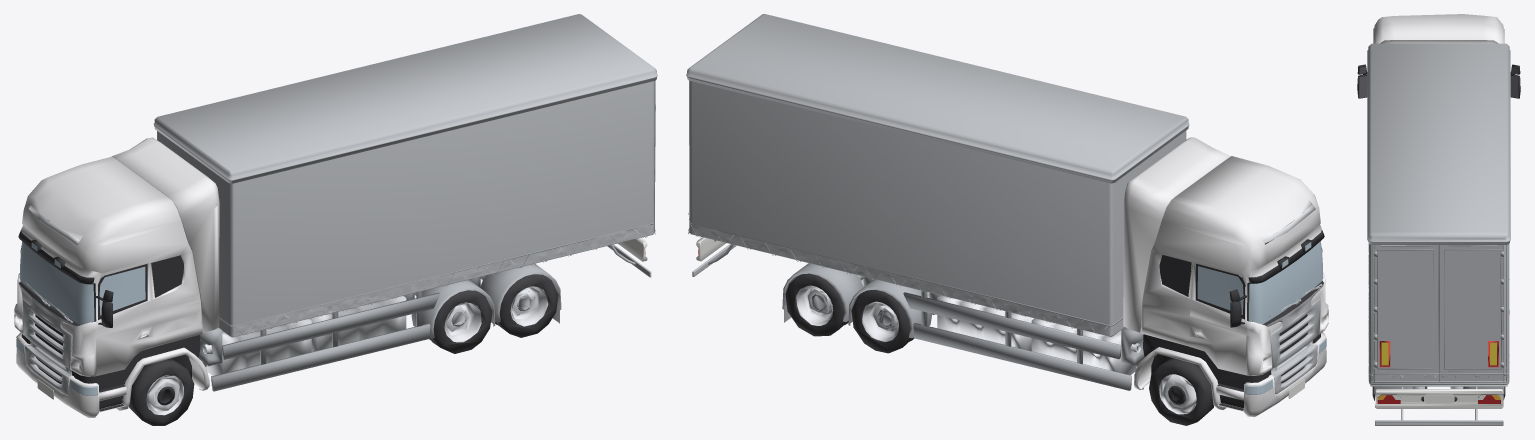
File: archmodels55-17.glb
The picture shows the model from 3 angles, left to right: view 1: azimuth 30°, elevation 25°; view 2: azimuth 150°, elevation 25°; view 3: azimuth 270°, elevation 25°; orthographic projection. The views are drawn at different scales.
Parts seen in each view (by area): view 1: Archmodels55_17_crate, Archmodels55_17_crate_top, Archmodels55_17_carpaint, Archmodels55_17_frame, Archmodels55_17_chrome2, Archmodels55_17_tires, Archmodels55_17_black, Archmodels55_17_glass, Archmodels55_17_crate_bottom, Archmodels55_17_grill; view 2: Archmodels55_17_crate, Archmodels55_17_crate_top, Archmodels55_17_carpaint, Archmodels55_17_frame, Archmodels55_17_chrome2, Archmodels55_17_tires, Archmodels55_17_black, Archmodels55_17_glass, Archmodels55_17_crate_bottom, Archmodels55_17_grill; view 3: Archmodels55_17_crate_top, Archmodels55_17_crate_doors, Archmodels55_17_carpaint, Archmodels55_17_crate_doors_detail, Archmodels55_17_register_plate, Archmodels55_17_back_bumper, Archmodels55_17_crate, Archmodels55_17_mirrors, Archmodels55_17_frame, Archmodels55_17_yellow, Archmodels55_17_red, Archmodels55_17_black (+2 smaller).
Boxes of the visible parts, <box> form: Archmodels55_17_crate: <box>157,81,654,326</box>; Archmodels55_17_crate_top: <box>154,14,657,337</box>; Archmodels55_17_carpaint: <box>14,137,219,417</box>; Archmodels55_17_frame: <box>156,222,654,391</box>; Archmodels55_17_chrome2: <box>29,205,548,415</box>; Archmodels55_17_tires: <box>129,274,558,425</box>; Archmodels55_17_black: <box>18,219,200,411</box>; Archmodels55_17_glass: <box>16,221,145,395</box>; Archmodels55_17_crate_bottom: <box>219,224,654,336</box>; Archmodels55_17_grill: <box>19,284,78,394</box>; Archmodels55_17_crate: <box>689,81,1186,324</box>; Archmodels55_17_crate_top: <box>686,14,1189,336</box>; Archmodels55_17_carpaint: <box>1123,137,1328,417</box>; Archmodels55_17_frame: <box>689,222,1145,390</box>; Archmodels55_17_chrome2: <box>796,204,1315,414</box>; Archmodels55_17_tires: <box>785,273,1213,425</box>; Archmodels55_17_black: <box>1143,230,1324,410</box>; Archmodels55_17_glass: <box>1197,221,1326,394</box>; Archmodels55_17_crate_bottom: <box>689,223,1124,335</box>; Archmodels55_17_grill: <box>1264,283,1323,394</box>; Archmodels55_17_crate_top: <box>1367,43,1510,384</box>; Archmodels55_17_crate_doors: <box>1374,245,1503,382</box>; Archmodels55_17_carpaint: <box>1373,14,1504,43</box>; Archmodels55_17_crate_doors_detail: <box>1370,245,1506,384</box>; Archmodels55_17_register_plate: <box>1375,389,1503,408</box>; Archmodels55_17_back_bumper: <box>1370,375,1507,425</box>; Archmodels55_17_crate: <box>1369,244,1508,382</box>; Archmodels55_17_mirrors: <box>1359,66,1518,97</box>; Archmodels55_17_frame: <box>1369,244,1509,394</box>; Archmodels55_17_yellow: <box>1381,342,1496,365</box>; Archmodels55_17_red: <box>1379,341,1498,367</box>; Archmodels55_17_black: <box>1357,64,1520,98</box>.
Bounding box in the file's own units: 10.62 × 4.24 × 2.84.
